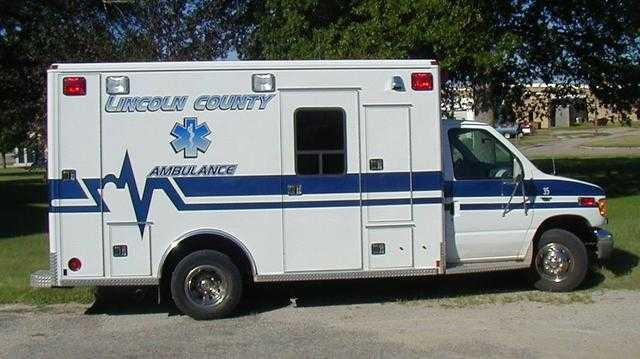Ambulance: (30, 44, 640, 308)
